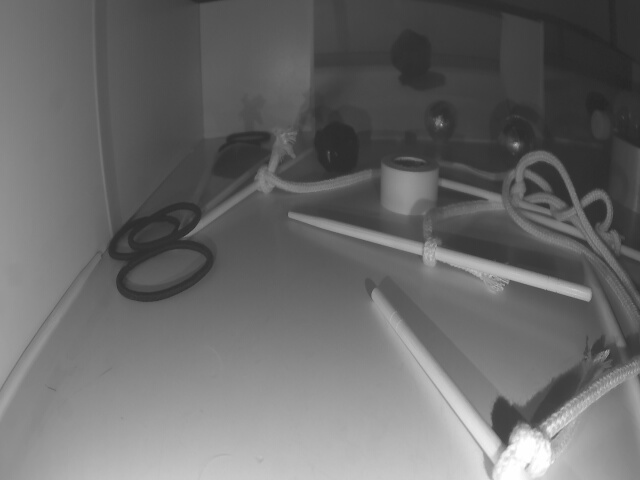Dead: (315, 121, 358, 177)
Live: (498, 115, 533, 164), (427, 99, 456, 140)
